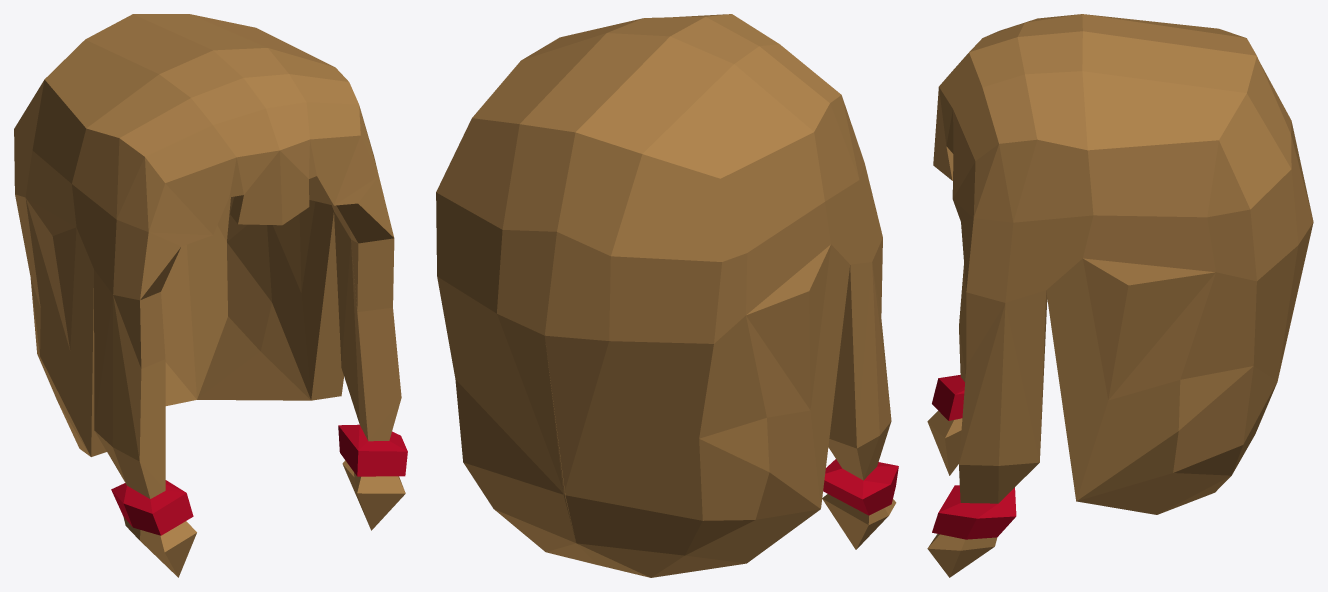
The model's file is Viking_M_Hair_B.fbx.
The picture shows the model from 3 angles, left to right: view 1: azimuth 30°, elevation 25°; view 2: azimuth 150°, elevation 25°; view 3: azimuth 270°, elevation 25°; orthographic projection. The views are drawn at different scales.
Visible parts, largest first — view 1: Viking_M_Hair_B; view 2: Viking_M_Hair_B; view 3: Viking_M_Hair_B.
Part boxes in pixels (left/top/right/bottom): Viking_M_Hair_B: left=14, top=14, right=407, bottom=577; Viking_M_Hair_B: left=436, top=14, right=898, bottom=577; Viking_M_Hair_B: left=927, top=14, right=1313, bottom=577.
Bounding box in the file's own units: 24.79 × 38.97 × 27.51.
